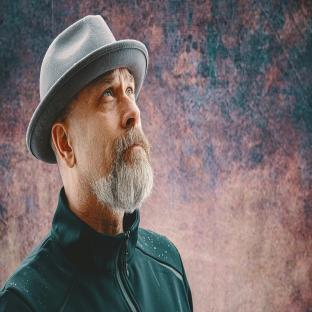Human: (0, 15, 193, 312)
